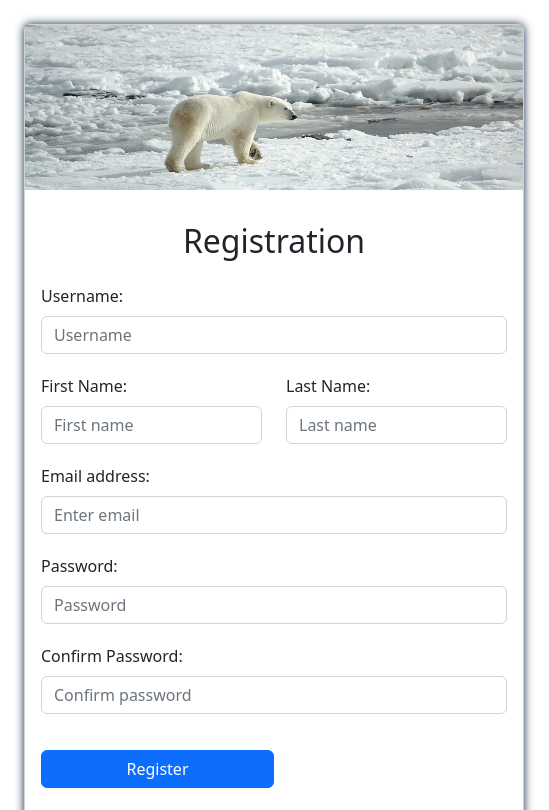
Test: Registration form - Successful registration
# add values to form and submit
Type "johnDoe" into the field with test id "login_user".
click(274, 335); type("johnDoe")  # box [41, 316, 507, 354]
Type "John" into the field with test id "fname_user".
click(152, 425); type("John")  # box [41, 406, 262, 444]
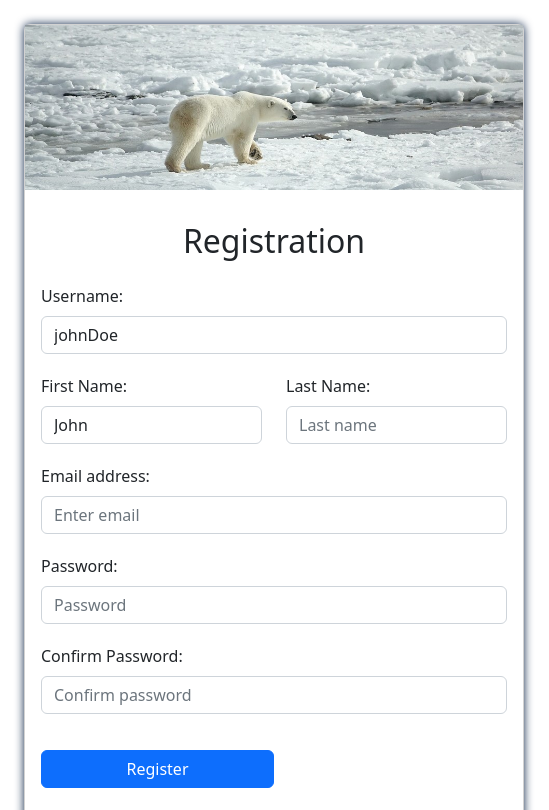
Type "Doe" into the field with test id "lname_user".
click(396, 425); type("Doe")  # box [286, 406, 507, 444]
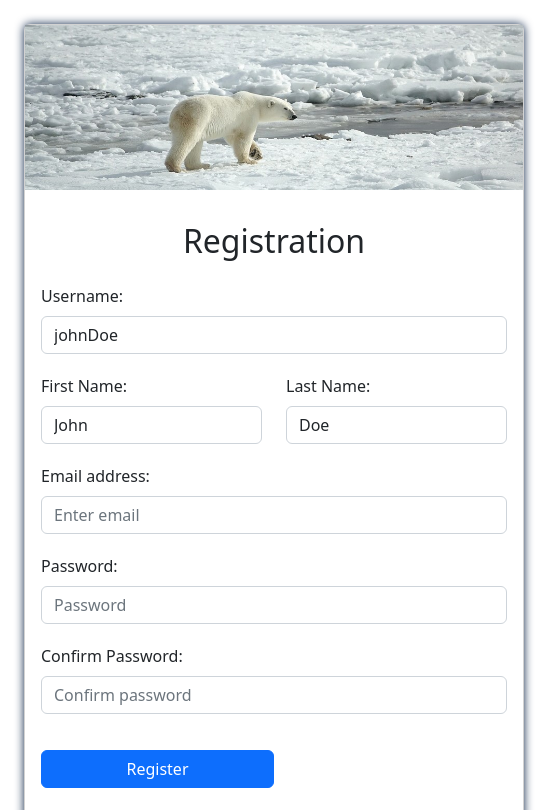
Type "johndoe@example.com" into the field with test id "email_user".
click(274, 515); type("johndoe@example.com")  # box [41, 496, 507, 534]
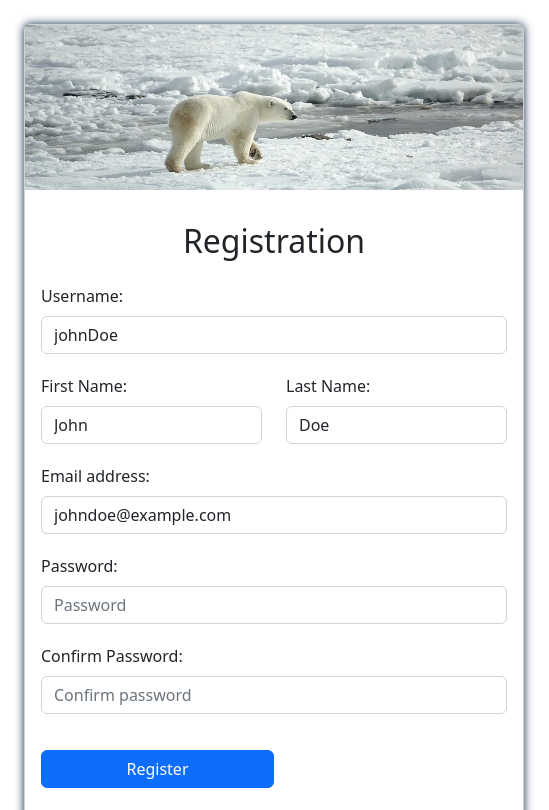
Type "password123" into the password field with test id "password_user".
click(274, 605); type("password123")  # box [41, 586, 507, 624]
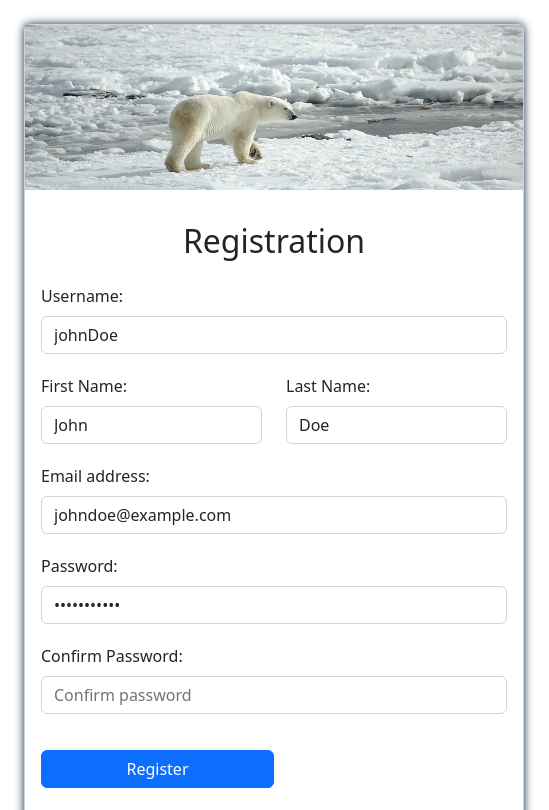
Type "password123" into the password field with test id "confirm_password_user".
click(274, 695); type("password123")  # box [41, 676, 507, 714]
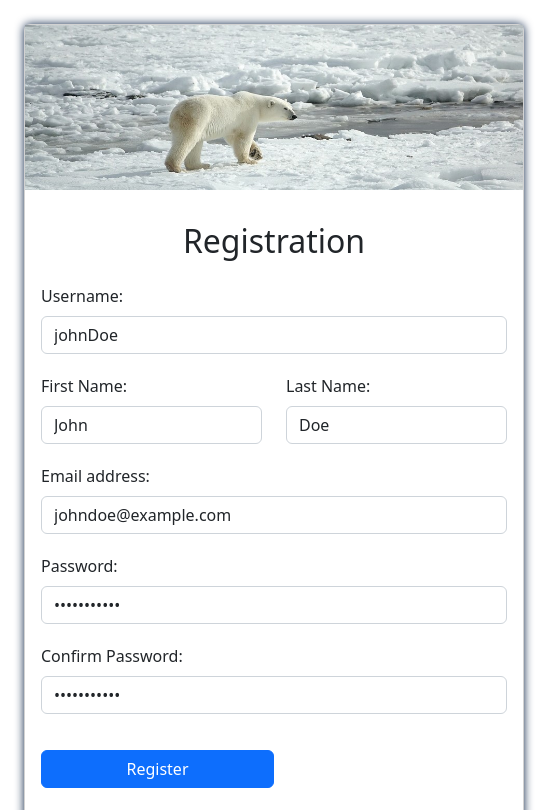
Click the button with test id "registerbutton".
click(158, 769)  # box [41, 750, 274, 788]
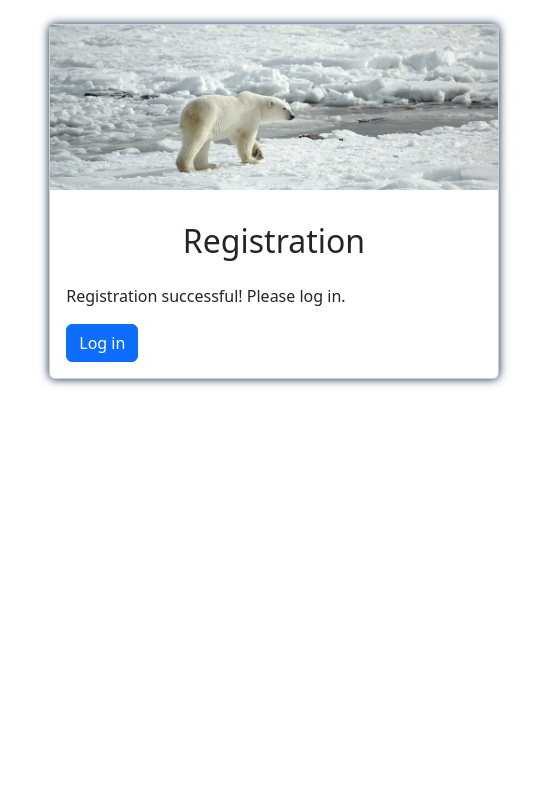
Expected: the text "Registration successful! Please log in." is shown, [66, 285, 346, 307]
